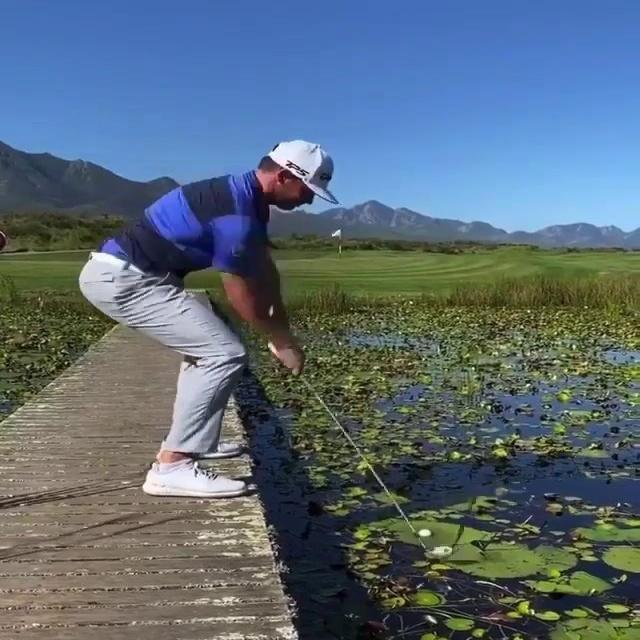ClubHead: (424, 544, 454, 558)
GolfBall: (419, 528, 432, 538)
